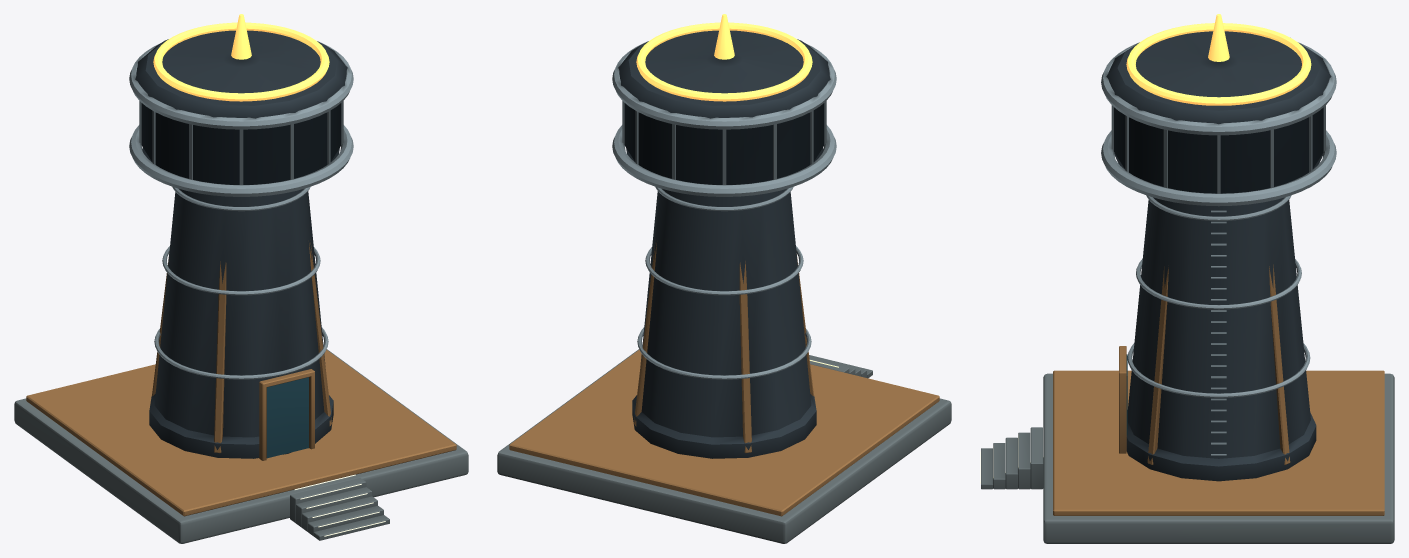
Rendered from operations-beacon.lod0.glb.
3 renders of one model, left to right at view 1: azimuth 30°, elevation 25°; view 2: azimuth 150°, elevation 25°; view 3: azimuth 270°, elevation 25°, orthographic. The views are drawn at different scales.
Visible parts, largest first — view 1: structure, signal; view 2: structure, signal; view 3: structure, signal.
Boxes of the visible parts, x1,y1,x2,y2 form: structure: [14, 30, 468, 543]; signal: [153, 14, 329, 101]; structure: [497, 30, 951, 543]; signal: [636, 14, 812, 101]; structure: [980, 31, 1394, 543]; signal: [1126, 14, 1311, 105].
Bounding box in the file's own units: 9 × 12.9 × 10.61.
